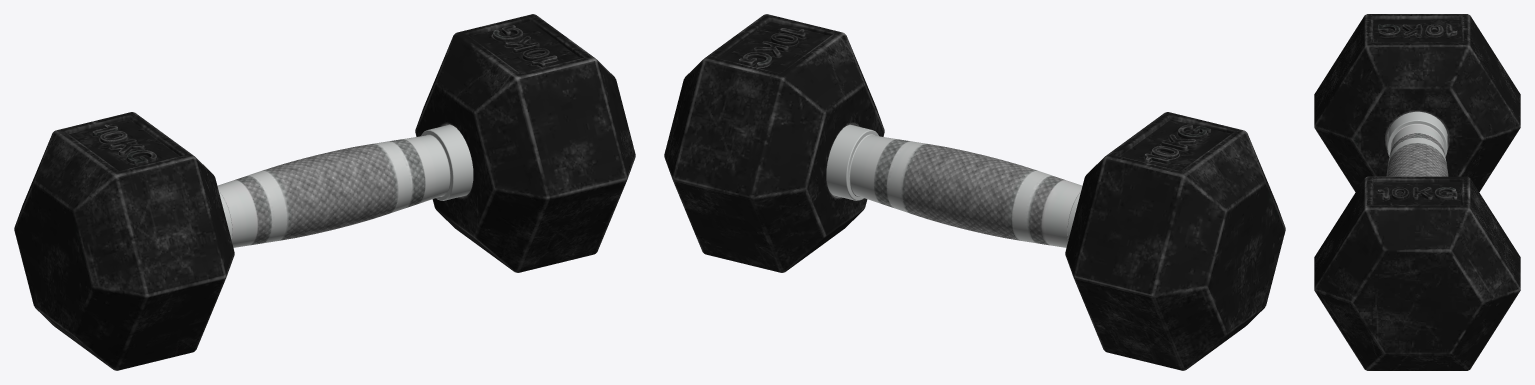
Rendered from dumbbell.opt.glb.
The picture shows the model from 3 angles, left to right: view 1: azimuth 30°, elevation 25°; view 2: azimuth 150°, elevation 25°; view 3: azimuth 270°, elevation 25°; orthographic projection. The views are drawn at different scales.
Parts seen in each view (by area): view 1: Hex dumbbell 10Kg_Hex dumbbell 10Kg_0; view 2: Hex dumbbell 10Kg_Hex dumbbell 10Kg_0; view 3: Hex dumbbell 10Kg_Hex dumbbell 10Kg_0.
Part boxes in pixels (box(x1,y1,x2,y2)): Hex dumbbell 10Kg_Hex dumbbell 10Kg_0: box(14, 14, 635, 370); Hex dumbbell 10Kg_Hex dumbbell 10Kg_0: box(664, 14, 1285, 370); Hex dumbbell 10Kg_Hex dumbbell 10Kg_0: box(1314, 14, 1520, 370).
Bounding box in the file's own units: 0.2772 × 0.0957 × 0.1097.
Materials: 1 (1 with a texture image).
